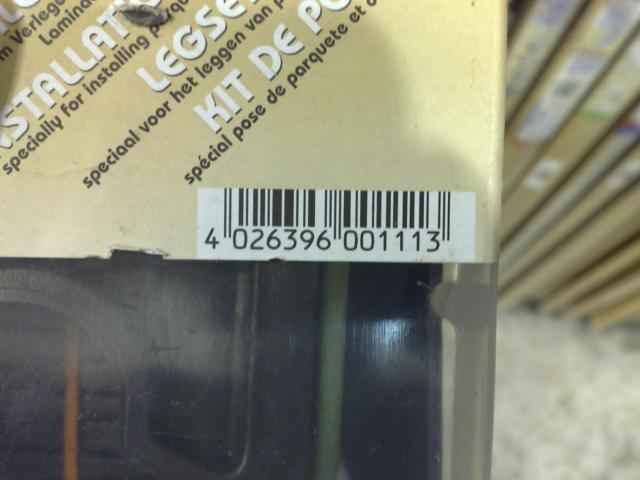Barcode: (197, 185, 457, 256)
